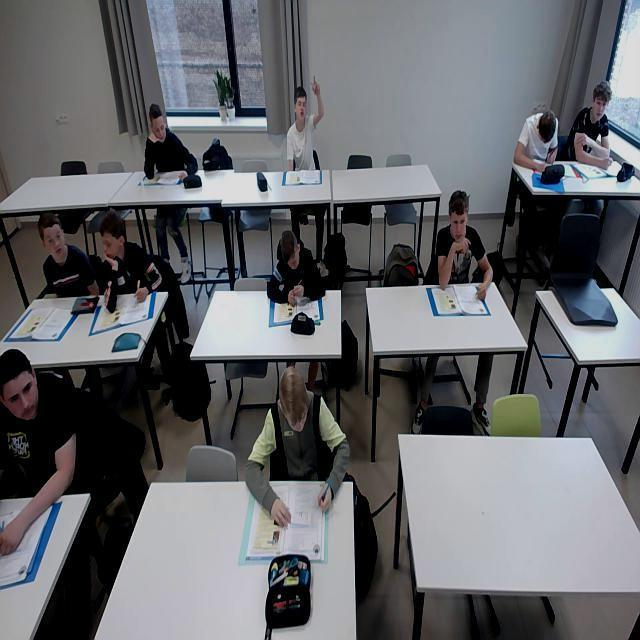Looking forward: (0, 348, 40, 422), (446, 190, 470, 242), (43, 216, 68, 261), (594, 85, 608, 120)
Raising hand: (287, 74, 323, 170)
Reading-writing: (236, 368, 354, 564), (96, 215, 160, 332), (270, 232, 326, 326), (145, 102, 198, 186), (512, 112, 562, 175)
